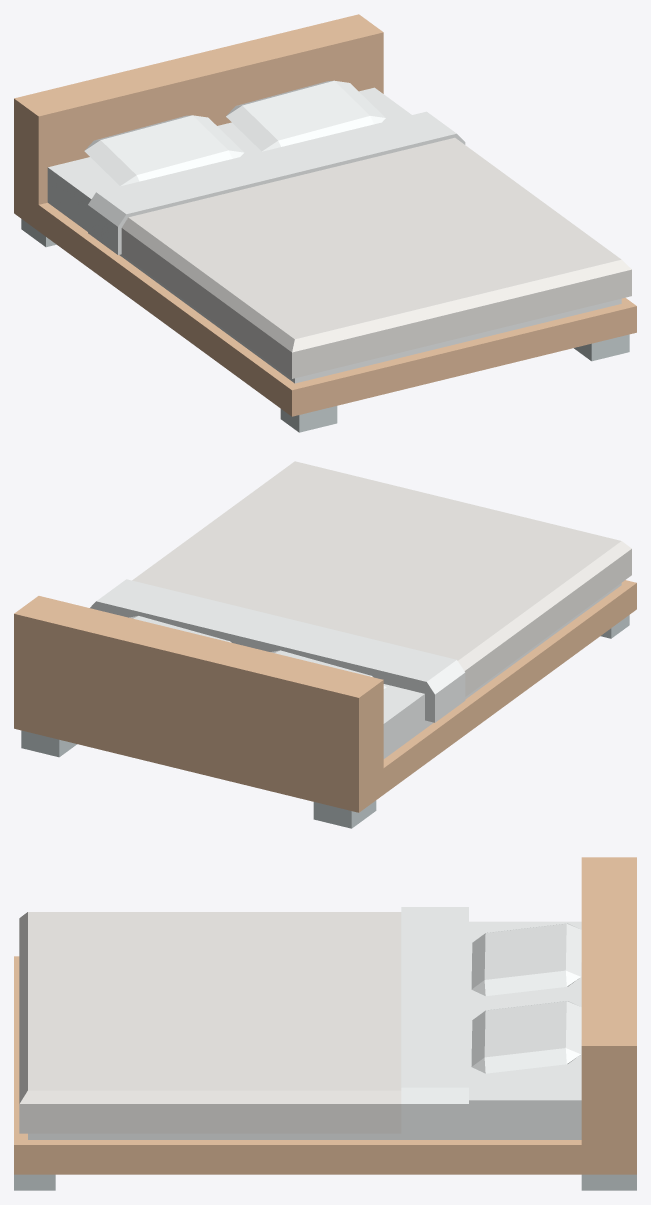
The model's file is bed-double.glb.
3 renders of one model, top to bottom at view 1: azimuth 30°, elevation 25°; view 2: azimuth 150°, elevation 25°; view 3: azimuth 270°, elevation 25°, orthographic. The views are drawn at different scales.
Parts seen in each view (by area): view 1: bedDouble(Clone), cover; view 2: bedDouble(Clone), cover; view 3: cover, bedDouble(Clone).
Part boxes in pixels (x1,y1,x2,y2): bedDouble(Clone): (14,14,636,432); cover: (121,137,631,378); bedDouble(Clone): (14,579,636,828); cover: (132,461,631,696); cover: (19,912,401,1133); bedDouble(Clone): (14,857,636,1190).
Bounding box in the file's own units: 1.37 × 0.4999 × 1.9.
